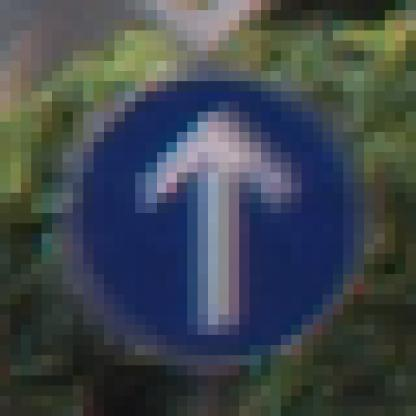AheadOnly: (53, 62, 365, 366)
